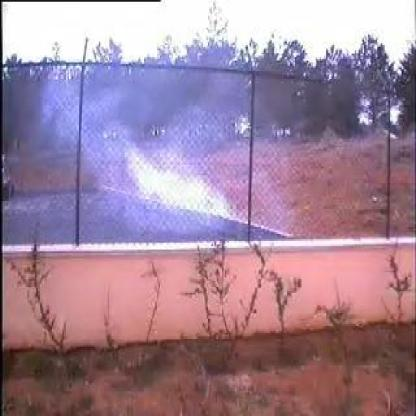-: (78, 76, 252, 246)
